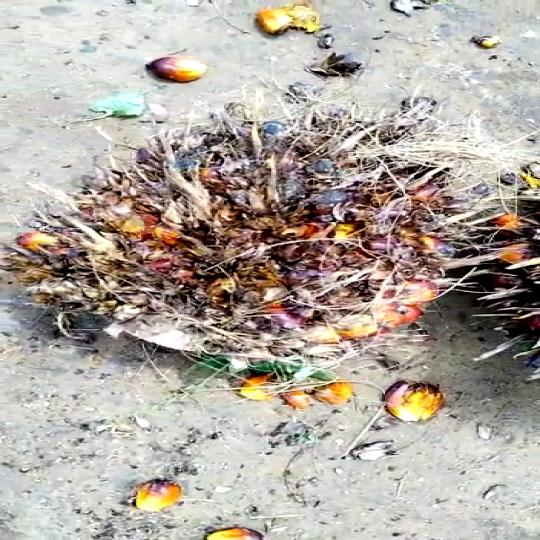terlalu masak: (0, 116, 497, 366)
